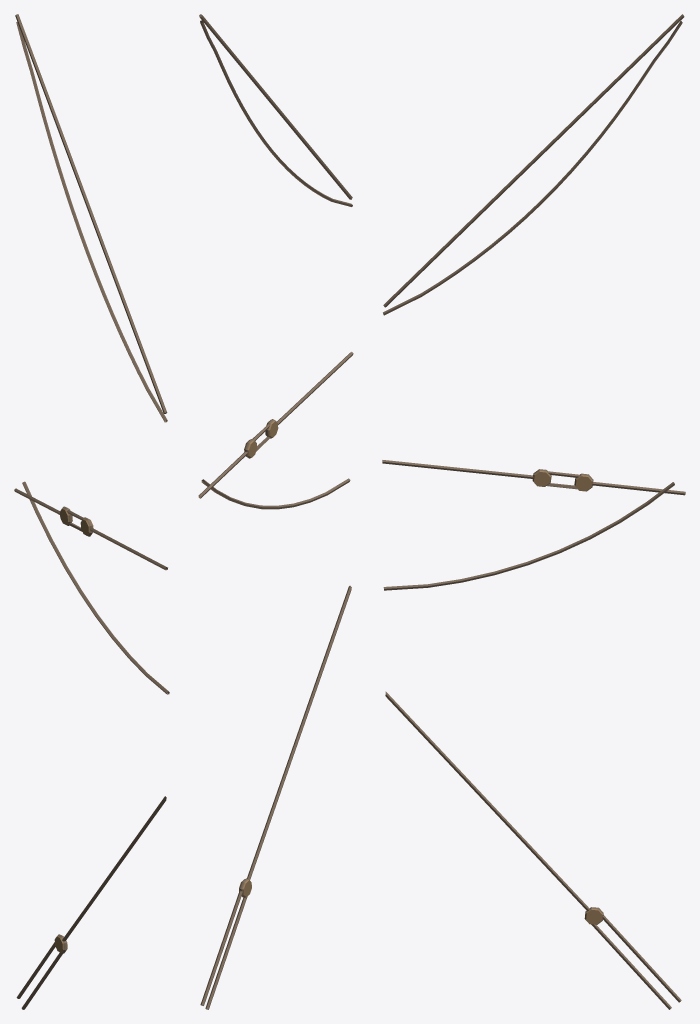
The model's file is SM_Veh_Ship_M_01_Rigging_Middle_01.fbx.
The picture shows the model from 3 angles, left to right: view 1: azimuth 30°, elevation 25°; view 2: azimuth 150°, elevation 25°; view 3: azimuth 270°, elevation 25°; orthographic projection.
Parts seen in each view (by area): view 1: SM_Veh_Ship_M_01_Rigging_Middle_01; view 2: SM_Veh_Ship_M_01_Rigging_Middle_01; view 3: SM_Veh_Ship_M_01_Rigging_Middle_01.
Boxes of the visible parts, <box> form: SM_Veh_Ship_M_01_Rigging_Middle_01: <box>14,14,169,1009</box>; SM_Veh_Ship_M_01_Rigging_Middle_01: <box>198,14,353,1009</box>; SM_Veh_Ship_M_01_Rigging_Middle_01: <box>382,14,685,1009</box>.
Size of the model in its own units: 17.24 by 2577 by 712.
